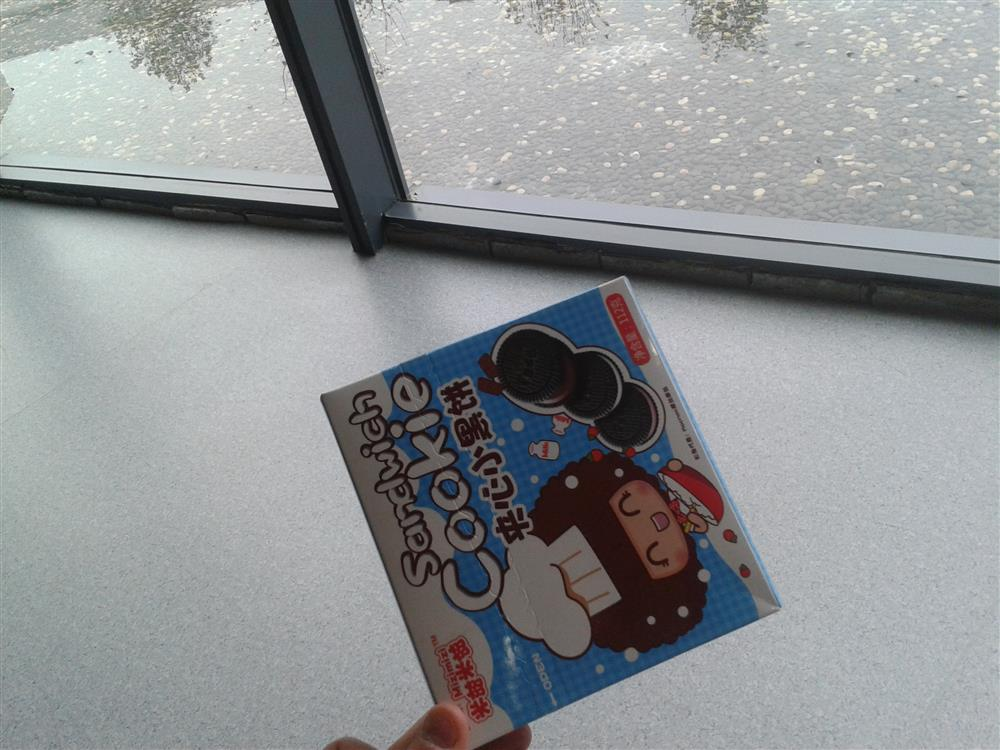mizimizi: (312, 283, 793, 741)
